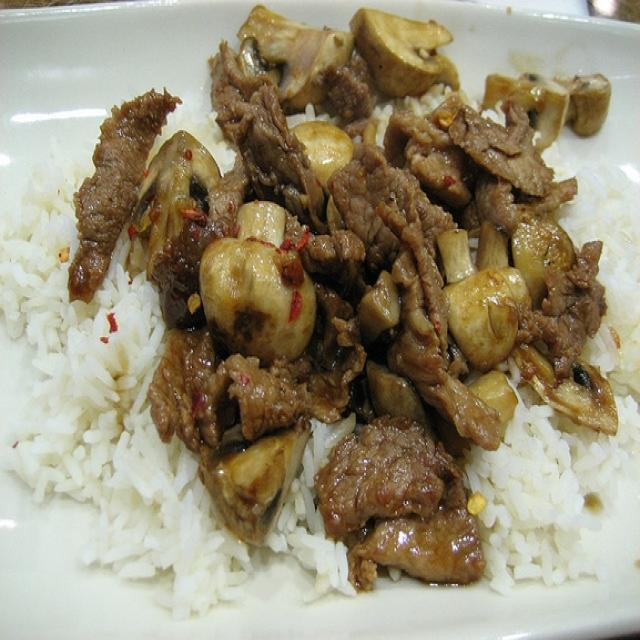牛肉菜式: (44, 21, 624, 591)
